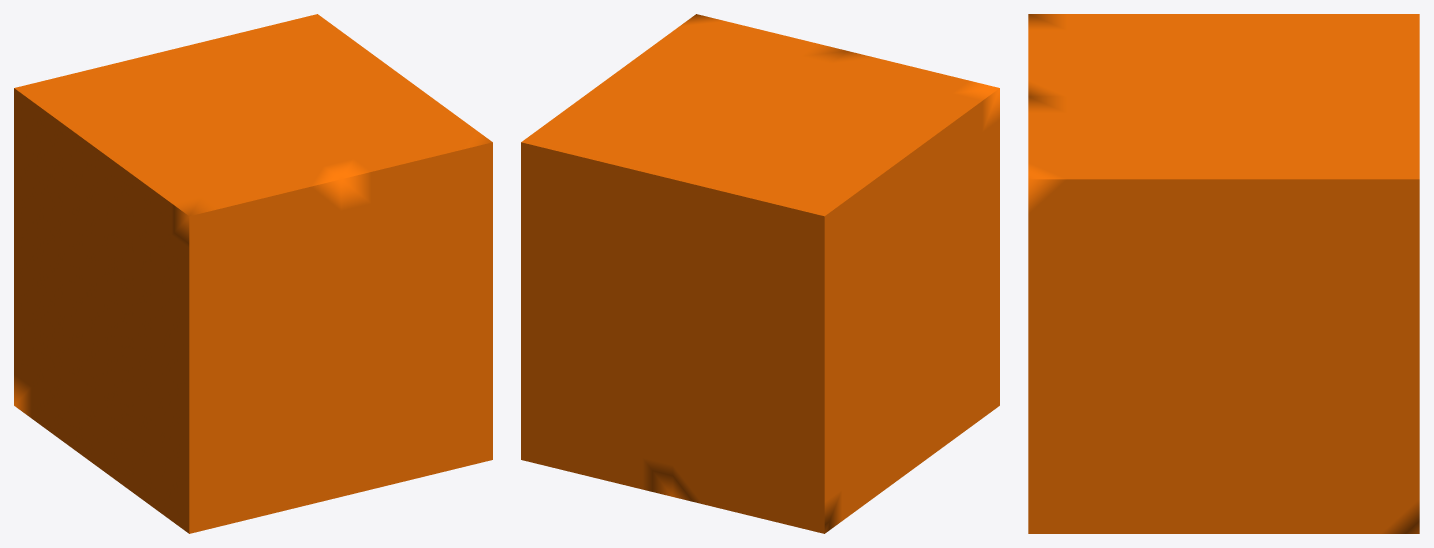
Rendered from 100x100x100brick.fbx.
The picture shows the model from 3 angles, left to right: view 1: azimuth 30°, elevation 25°; view 2: azimuth 150°, elevation 25°; view 3: azimuth 270°, elevation 25°; orthographic projection. The views are drawn at different scales.
Visible parts, largest first — view 1: block; view 2: block; view 3: block.
Part boxes in pixels (x1=…): block: x1=14, y1=14, x2=492, y2=533; block: x1=521, y1=14, x2=999, y2=533; block: x1=1028, y1=14, x2=1419, y2=533.
Size of the model in its own units: 100 by 101 by 100.
